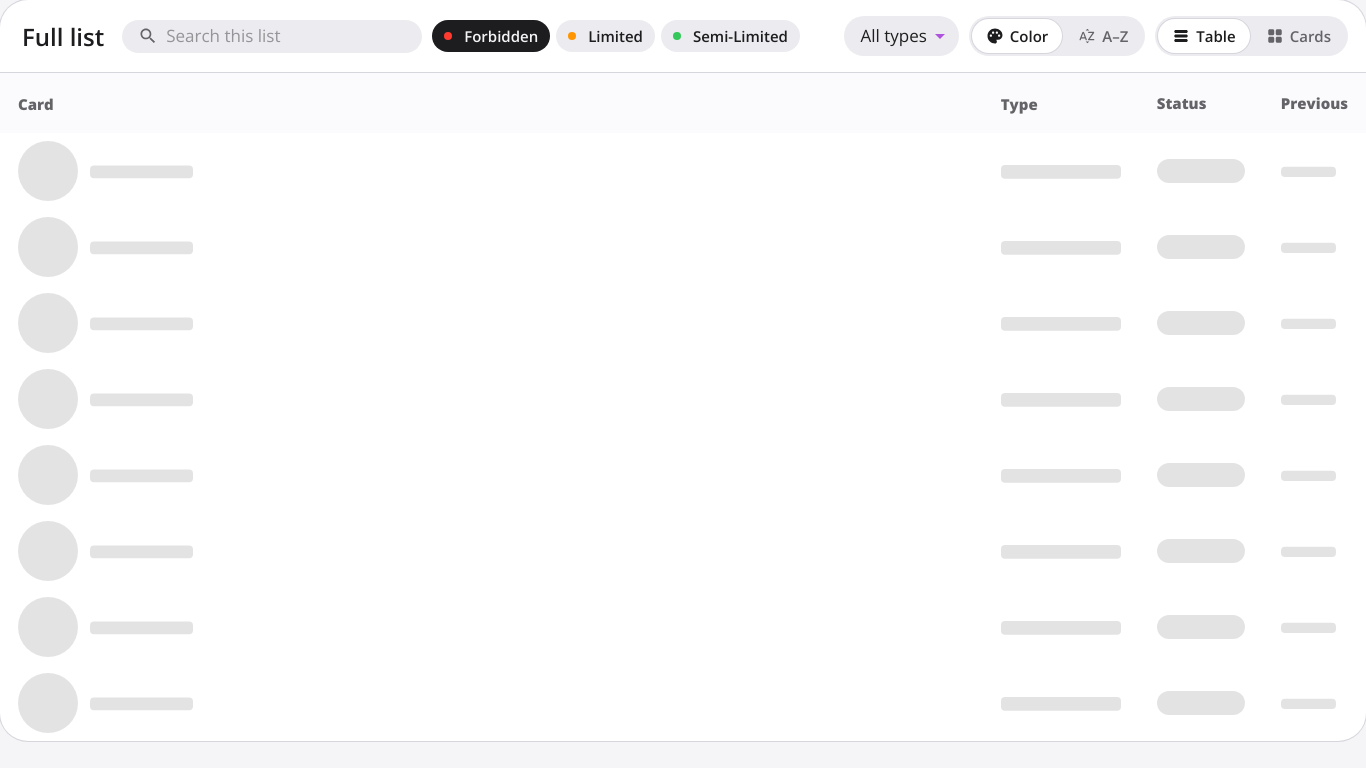
Test case: holds the card grid with card-shaped placeholders while loading
What coordinates should you click on to do the following:
click the button "Cards"
I would click on:
 (1298, 36)
Its box is [1252, 19, 1345, 53].
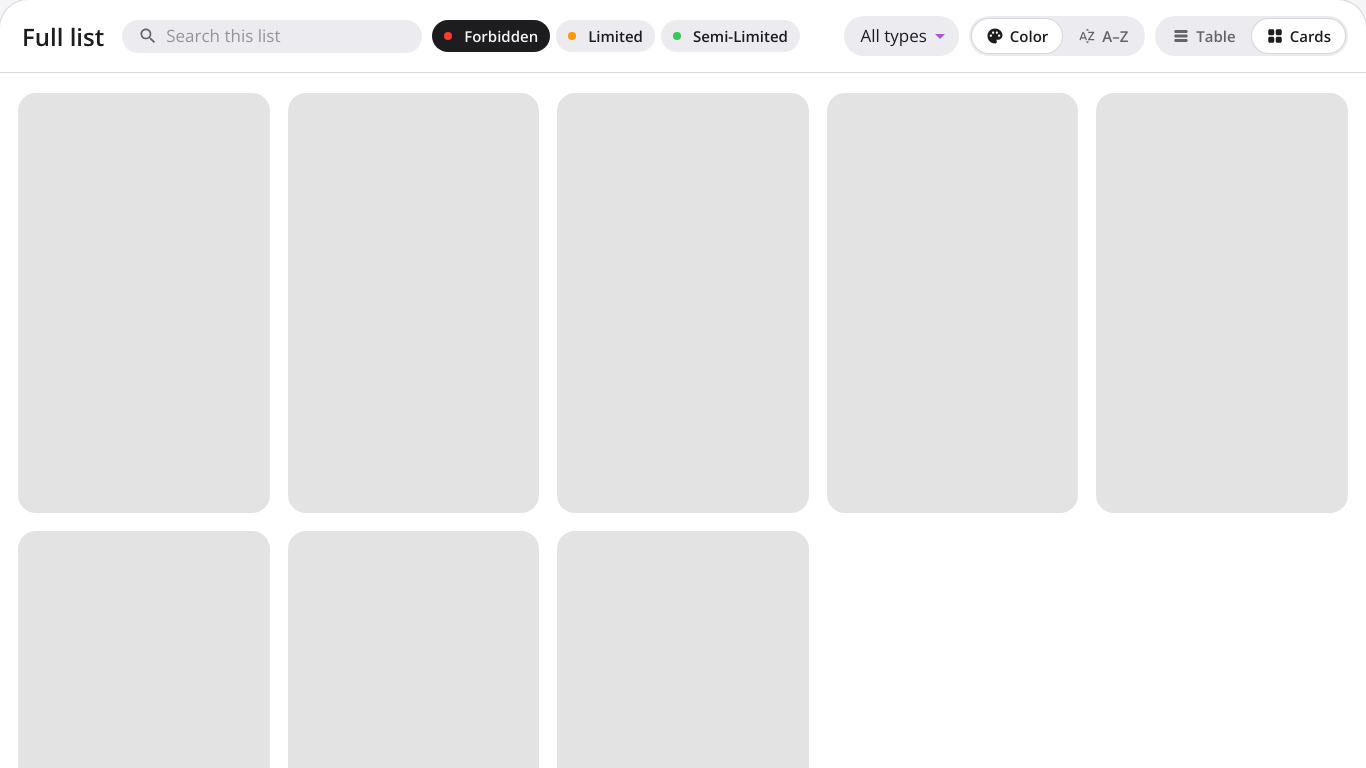
Now the number of list items with test id "ban-list-card-skeleton" is 8
